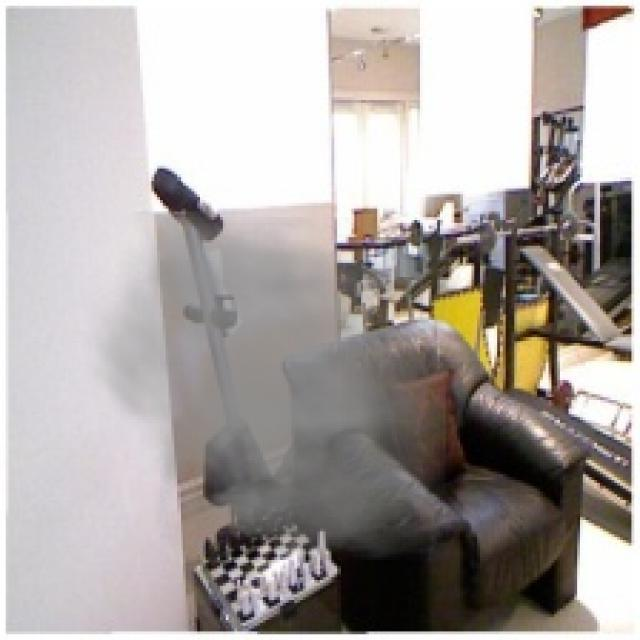Smoke: (77, 211, 446, 560)
